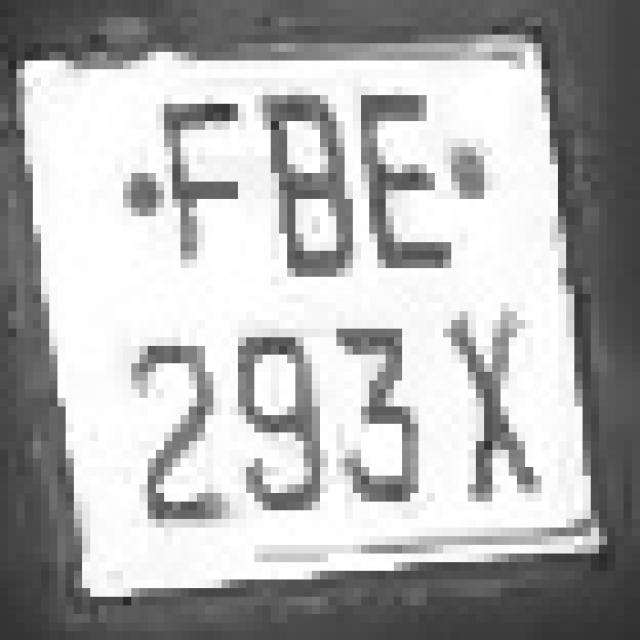2: (131, 312, 222, 554)
3: (328, 277, 427, 519)
9: (214, 302, 336, 528)
B: (246, 61, 361, 312)
E: (344, 78, 468, 277)
F: (140, 61, 246, 294)
X: (418, 294, 582, 528)
